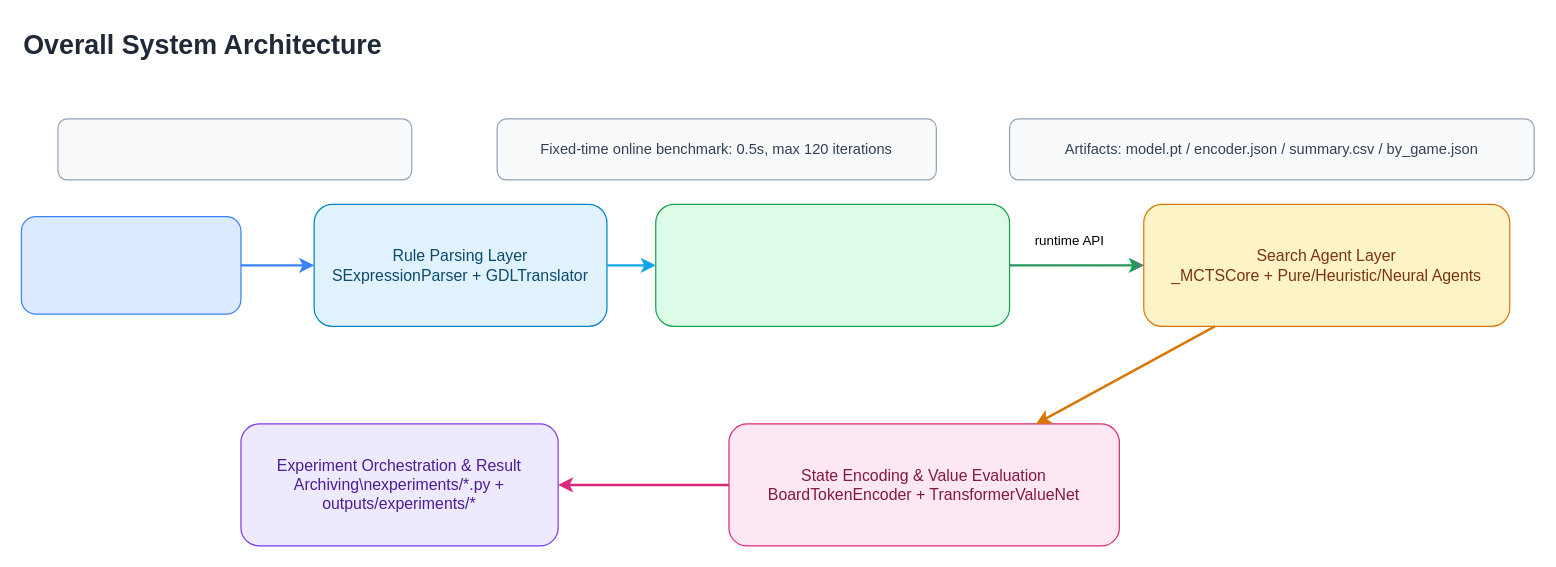
Some shapes in this 1556 by 567 pixel diagram are drawn without their labels. Here are the shapes that lost their labels. From the top down, the centre of each, then its label:
pixel 234 149: Games: breakthrough / connectFour / hex
pixel 130 264: GDL/KIF Rules (games/*.kif)
pixel 832 264: Unified State Machine Layer GameStateMachine + Prolog Runtime + Cache
